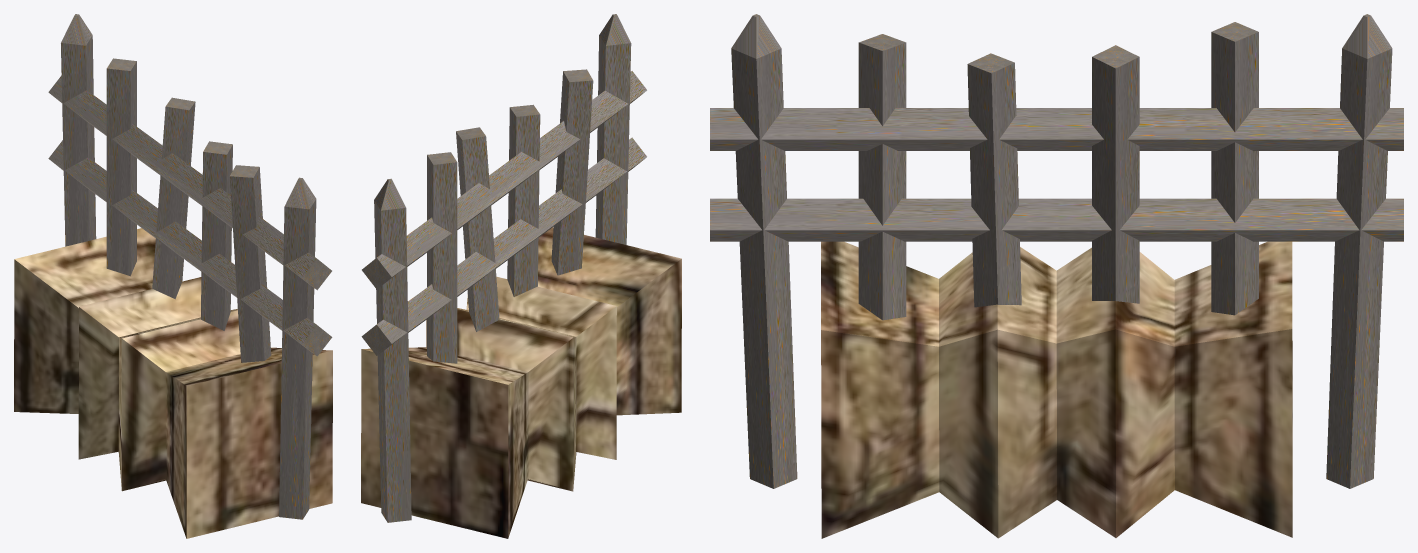
File: metal-fence.fbx
3 views of the same model, side by side, from view 1: azimuth 30°, elevation 25°; view 2: azimuth 150°, elevation 25°; view 3: azimuth 270°, elevation 25° (orthographic). The views are drawn at different scales.
Visible parts, largest first — view 1: Cube, Cylinder, Cylinder.002, Cylinder.003, Cylinder.001, Cylinder.006, Cylinder.007, Cylinder.005, Cylinder.004; view 2: Cube, Cylinder.001, Cylinder.002, Cylinder.003, Cylinder, Cylinder.006, Cylinder.007, Cylinder.005, Cylinder.004; view 3: Cube, Cylinder.002, Cylinder.003, Cylinder, Cylinder.001, Cylinder.005, Cylinder.006, Cylinder.004, Cylinder.007.
Part boxes in pixels (box(x1,y1,x2,y2)): Cube: box(14, 228, 332, 538); Cylinder: box(279, 177, 316, 519); Cylinder.002: box(48, 140, 332, 356); Cylinder.003: box(48, 75, 331, 290); Cylinder.001: box(61, 14, 96, 246); Cylinder.006: box(106, 58, 136, 276); Cylinder.007: box(229, 165, 271, 362); Cylinder.005: box(152, 97, 195, 299); Cylinder.004: box(201, 141, 232, 330); Cube: box(361, 227, 681, 538); Cylinder.001: box(374, 178, 411, 522); Cylinder.002: box(361, 137, 646, 355); Cylinder.003: box(362, 71, 646, 289); Cylinder: box(595, 14, 631, 244); Cylinder.006: box(427, 152, 457, 363); Cylinder.007: box(551, 69, 593, 275); Cylinder.005: box(456, 127, 499, 331); Cylinder.004: box(507, 104, 540, 296); Cube: box(821, 241, 1292, 538); Cylinder.002: box(710, 198, 1403, 241); Cylinder.003: box(710, 108, 1403, 150); Cylinder: box(731, 14, 797, 488); Cylinder.001: box(1326, 14, 1392, 488); Cylinder.005: box(1092, 45, 1139, 303); Cylinder.006: box(1211, 22, 1258, 315); Cylinder.004: box(967, 53, 1021, 307); Cylinder.007: box(858, 34, 906, 320).
Bounding box in the file's own units: 200 × 465 × 602.
